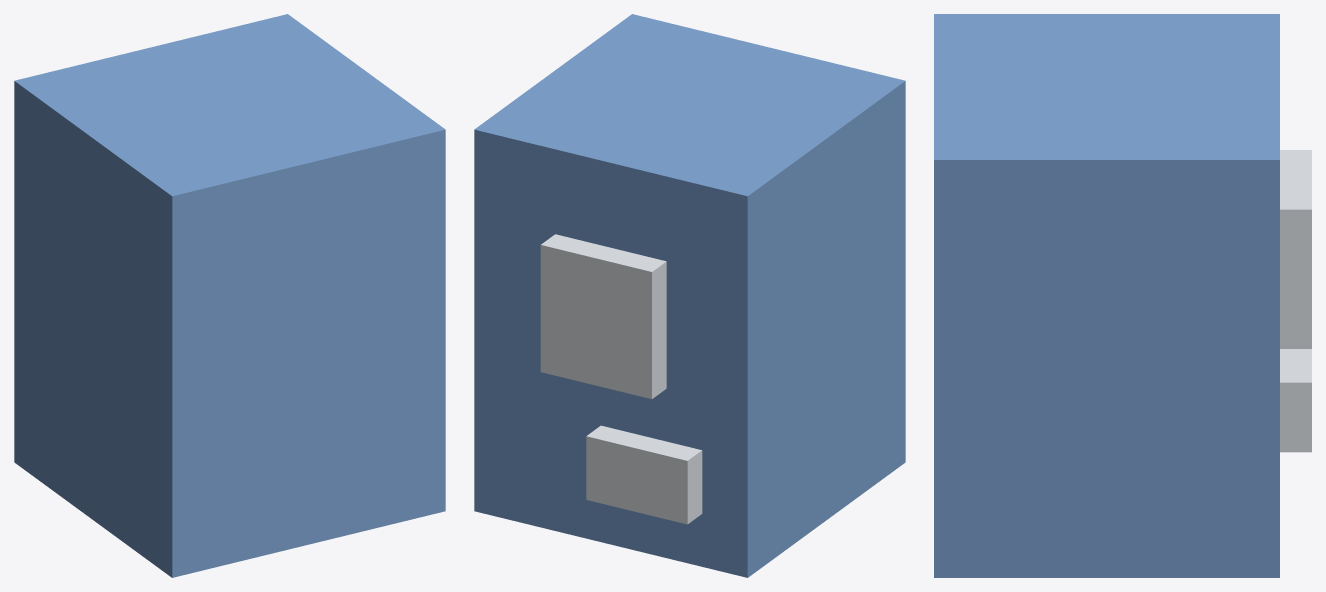
The model's file is jeans_rasgado_coxa.glb.
The picture shows the model from 3 angles, left to right: view 1: azimuth 30°, elevation 25°; view 2: azimuth 150°, elevation 25°; view 3: azimuth 270°, elevation 25°; orthographic projection. The views are drawn at different scales.
Parts seen in each view (by area): view 1: jeans_rasgado_coxa; view 2: jeans_rasgado_coxa; view 3: jeans_rasgado_coxa.
Part boxes in pixels (box(x1,y1,x2,y2)): jeans_rasgado_coxa: box(14, 14, 445, 577); jeans_rasgado_coxa: box(474, 14, 905, 577); jeans_rasgado_coxa: box(934, 14, 1311, 577).
Bounding box in the file's own units: 0.27 × 0.36 × 0.295.
